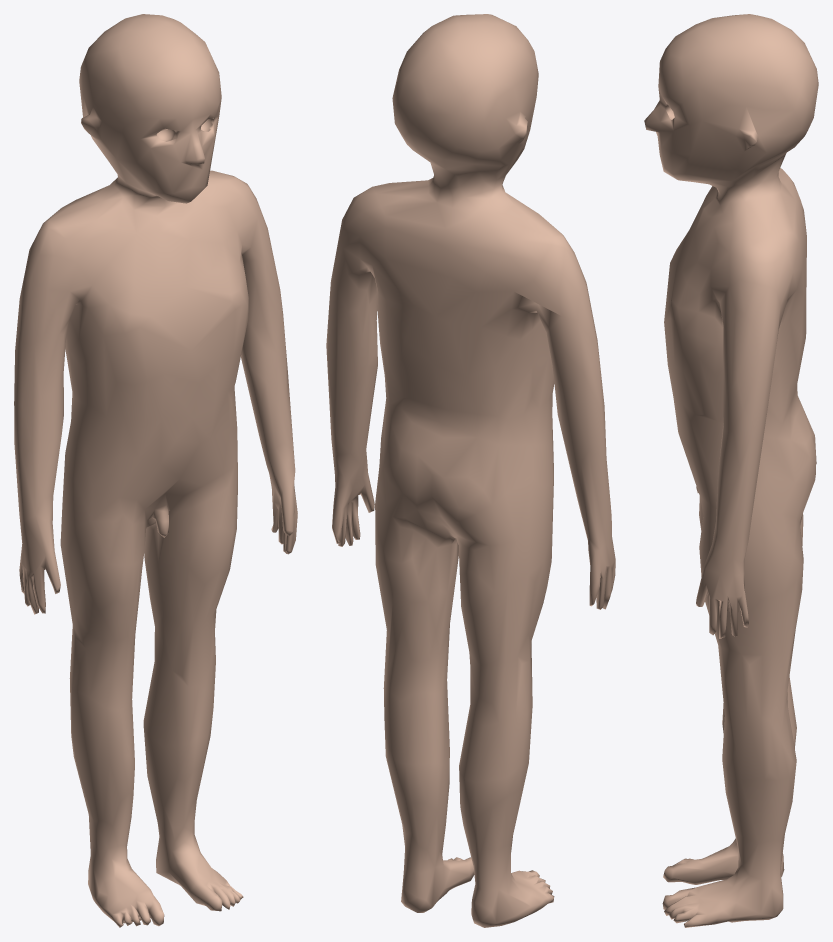
The model's file is pediatric_child_5y_male.surface.LOD3.glb.
3 views of the same model, side by side, from view 1: azimuth 30°, elevation 25°; view 2: azimuth 150°, elevation 25°; view 3: azimuth 270°, elevation 25° (orthographic).
Parts seen in each view (by area): view 1: PEDIATRIC.CHILD_5Y.MALE.SURFACE.SKIN; view 2: PEDIATRIC.CHILD_5Y.MALE.SURFACE.SKIN; view 3: PEDIATRIC.CHILD_5Y.MALE.SURFACE.SKIN.
Part boxes in pixels (left/top/right/bottom): PEDIATRIC.CHILD_5Y.MALE.SURFACE.SKIN: left=14, top=14, right=297, bottom=927; PEDIATRIC.CHILD_5Y.MALE.SURFACE.SKIN: left=326, top=14, right=615, bottom=927; PEDIATRIC.CHILD_5Y.MALE.SURFACE.SKIN: left=644, top=14, right=818, bottom=927.
Size of the model in its own units: 0.3533 by 1.09 by 0.1963.
